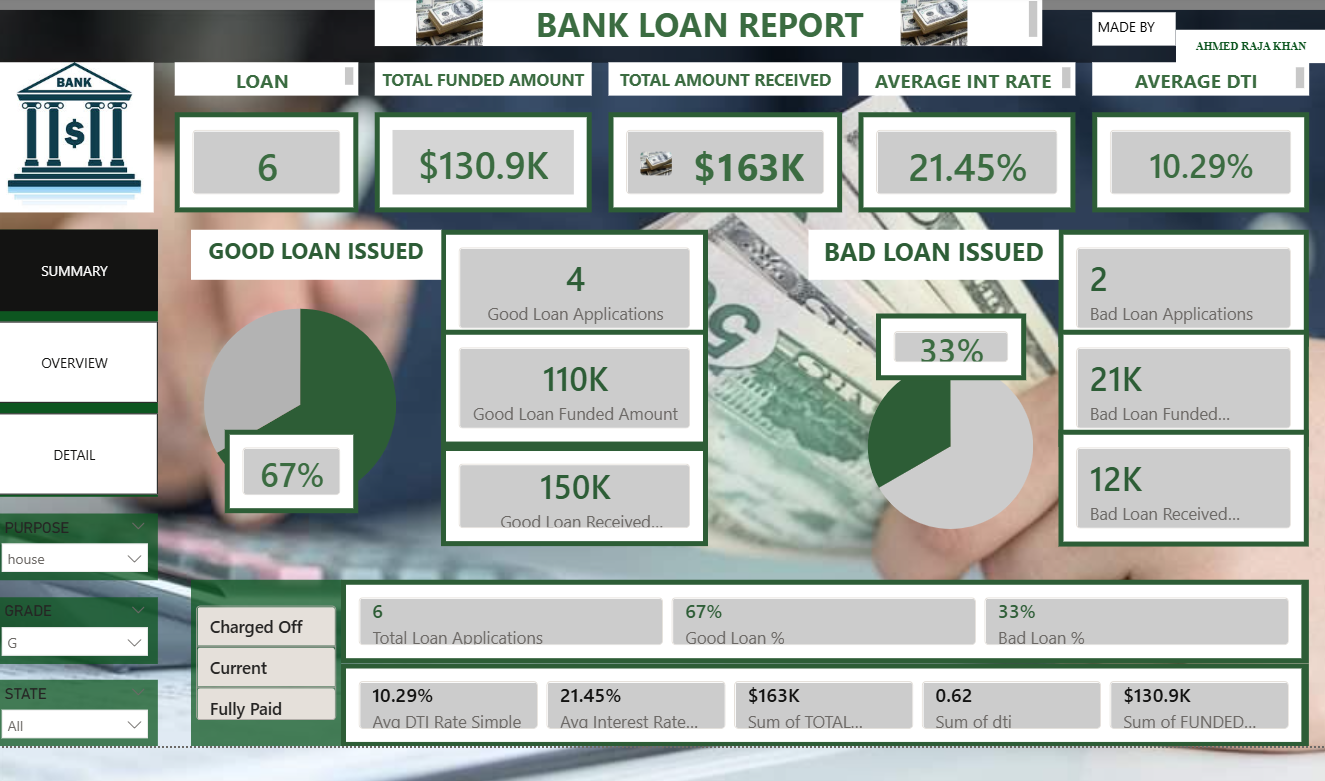

This screenshot's page, from the dashboard's own definition file:
{"tool":"powerbi","page":{"name":"SUMMARY","canvas":[1280,720],"ordinal":0},"visuals":[{"type":"shape","box":[0,0,1280,64],"z":0},{"type":"textbox","box":[368,0,640,48],"z":1000},{"type":"textbox","box":[176,64,176,32],"z":2000},{"type":"cardVisual","fields":{"Data":["Sum(loan_data.loan_amount)"]},"box":[368,112,208,96],"z":3000},{"type":"cardVisual","fields":{"Data":["CountNonNull(loan_data.id)"]},"box":[176,112,176,96],"z":4000},{"type":"textbox","box":[368,64,208,32],"z":5000},{"type":"cardVisual","fields":{"Data":["Sum(loan_data.total_payment)"]},"box":[592,112,224,96],"z":6000},{"type":"textbox","box":[592,64,224,32],"z":7000},{"type":"cardVisual","fields":{"Data":["loan_data.Avg Interest Rate Simple"]},"box":[832,112,208,96],"z":8000},{"type":"textbox","box":[832,64,208,32],"z":9000},{"type":"cardVisual","fields":{"Data":["loan_data.Avg DTI Rate Simple"]},"box":[1056,112,208,96],"z":10000},{"type":"textbox","box":[1056,64,208,32],"z":11000},{"type":"pieChart","fields":{"Category":["loan_data.GOOD AND BAD LOAN"],"Y":["loan_data.Total Loan Applications"]},"box":[160,272,272,240],"z":12000},{"type":"cardVisual","fields":{"Data":["loan_data.Good Loan %"]},"box":[224,416,128,80],"z":13000},{"type":"cardVisual","fields":{"Data":["loan_data.Good Loan Applications"]},"box":[432,224,256,112],"z":14000},{"type":"cardVisual","fields":{"Data":["loan_data.Good Loan Funded Amount"]},"box":[432,320,256,112],"z":15000},{"type":"cardVisual","fields":{"Data":["loan_data.Good Loan Received Amount"]},"box":[432,432,256,96],"z":16000},{"type":"pieChart","fields":{"Category":["loan_data.GOOD AND BAD LOAN"],"Y":["loan_data.Total Loan Applications"]},"box":[816,320,208,224],"z":17000},{"type":"cardVisual","fields":{"Data":["loan_data.Bad Loan %"]},"box":[848,304,144,64],"z":18000},{"type":"cardVisual","fields":{"Data":["loan_data.Bad Loan Applications"]},"box":[1024,224,240,112],"z":19000},{"type":"cardVisual","fields":{"Data":["loan_data.Bad Loan Funded Amount"]},"box":[1024,320,240,112],"z":20000},{"type":"cardVisual","fields":{"Data":["loan_data.Bad Loan Received Amount"]},"box":[1024,416,240,112],"z":21000},{"type":"textbox","box":[784,224,240,48],"z":22000},{"type":"textbox","box":[192,224,240,48],"z":23000},{"type":"cardVisual","fields":{"Rows":["loan_data.loan_status"]},"box":[192,560,144,160],"z":24000},{"type":"cardVisual","fields":{"Data":["loan_data.Avg DTI Rate Simple","loan_data.Avg Interest Rate Simple","Sum(loan_data.total_payment)","Sum(loan_data.dti)","Sum(loan_data.loan_amount)"]},"box":[336,640,928,80],"z":25000},{"type":"cardVisual","fields":{"Data":["loan_data.Total Loan Applications","loan_data.Good Loan %","loan_data.Bad Loan %"]},"box":[336,560,928,80],"z":26000},{"type":"slicer","fields":{"Values":["loan_data.address_state"]},"box":[0,656,160,64],"z":27000},{"type":"slicer","fields":{"Values":["loan_data.grade"]},"box":[0,576,160,64],"z":28000},{"type":"slicer","fields":{"Values":["loan_data.purpose"]},"box":[0,496,160,64],"z":29000},{"type":"image","box":[816,0,176,48],"z":30000},{"type":"image","box":[384,0,112,48],"z":31000},{"type":"image","box":[0,64,160,144],"z":33000},{"type":"pageNavigator","box":[0,224,160,256],"z":33001},{"type":"textbox","box":[1136,32,144,32],"z":33002},{"type":"textbox","box":[1056,16,80,32],"z":33003}]}

Visuals, with their boxes on the page's 1280x720 design canvas (x1, y1, x2, y2). These are canvas units, not pixel positions in the 1325x781 screenshot, which may show the page scaled, cropped or inside an application window:
shape: pyautogui.locateOnScreen(0, 0, 1280, 64)
textbox: pyautogui.locateOnScreen(368, 0, 1008, 48)
textbox: pyautogui.locateOnScreen(176, 64, 352, 96)
cardVisual - Sum(loan_data.loan_amount): pyautogui.locateOnScreen(368, 112, 576, 208)
cardVisual - CountNonNull(loan_data.id): pyautogui.locateOnScreen(176, 112, 352, 208)
textbox: pyautogui.locateOnScreen(368, 64, 576, 96)
cardVisual - Sum(loan_data.total_payment): pyautogui.locateOnScreen(592, 112, 816, 208)
textbox: pyautogui.locateOnScreen(592, 64, 816, 96)
cardVisual - loan_data.Avg Interest Rate Simple: pyautogui.locateOnScreen(832, 112, 1040, 208)
textbox: pyautogui.locateOnScreen(832, 64, 1040, 96)
cardVisual - loan_data.Avg DTI Rate Simple: pyautogui.locateOnScreen(1056, 112, 1264, 208)
textbox: pyautogui.locateOnScreen(1056, 64, 1264, 96)
pieChart - loan_data.GOOD AND BAD LOAN x loan_data.Total Loan Applications: pyautogui.locateOnScreen(160, 272, 432, 512)
cardVisual - loan_data.Good Loan %: pyautogui.locateOnScreen(224, 416, 352, 496)
cardVisual - loan_data.Good Loan Applications: pyautogui.locateOnScreen(432, 224, 688, 336)
cardVisual - loan_data.Good Loan Funded Amount: pyautogui.locateOnScreen(432, 320, 688, 432)
cardVisual - loan_data.Good Loan Received Amount: pyautogui.locateOnScreen(432, 432, 688, 528)
pieChart - loan_data.GOOD AND BAD LOAN x loan_data.Total Loan Applications: pyautogui.locateOnScreen(816, 320, 1024, 544)
cardVisual - loan_data.Bad Loan %: pyautogui.locateOnScreen(848, 304, 992, 368)
cardVisual - loan_data.Bad Loan Applications: pyautogui.locateOnScreen(1024, 224, 1264, 336)
cardVisual - loan_data.Bad Loan Funded Amount: pyautogui.locateOnScreen(1024, 320, 1264, 432)
cardVisual - loan_data.Bad Loan Received Amount: pyautogui.locateOnScreen(1024, 416, 1264, 528)
textbox: pyautogui.locateOnScreen(784, 224, 1024, 272)
textbox: pyautogui.locateOnScreen(192, 224, 432, 272)
cardVisual - loan_data.loan_status: pyautogui.locateOnScreen(192, 560, 336, 720)
cardVisual - loan_data.Avg DTI Rate Simple x loan_data.Avg Interest Rate Simple: pyautogui.locateOnScreen(336, 640, 1264, 720)
cardVisual - loan_data.Total Loan Applications x loan_data.Good Loan %: pyautogui.locateOnScreen(336, 560, 1264, 640)
slicer - loan_data.address_state: pyautogui.locateOnScreen(0, 656, 160, 720)
slicer - loan_data.grade: pyautogui.locateOnScreen(0, 576, 160, 640)
slicer - loan_data.purpose: pyautogui.locateOnScreen(0, 496, 160, 560)
image: pyautogui.locateOnScreen(816, 0, 992, 48)
image: pyautogui.locateOnScreen(384, 0, 496, 48)
image: pyautogui.locateOnScreen(0, 64, 160, 208)
pageNavigator: pyautogui.locateOnScreen(0, 224, 160, 480)
textbox: pyautogui.locateOnScreen(1136, 32, 1280, 64)
textbox: pyautogui.locateOnScreen(1056, 16, 1136, 48)
